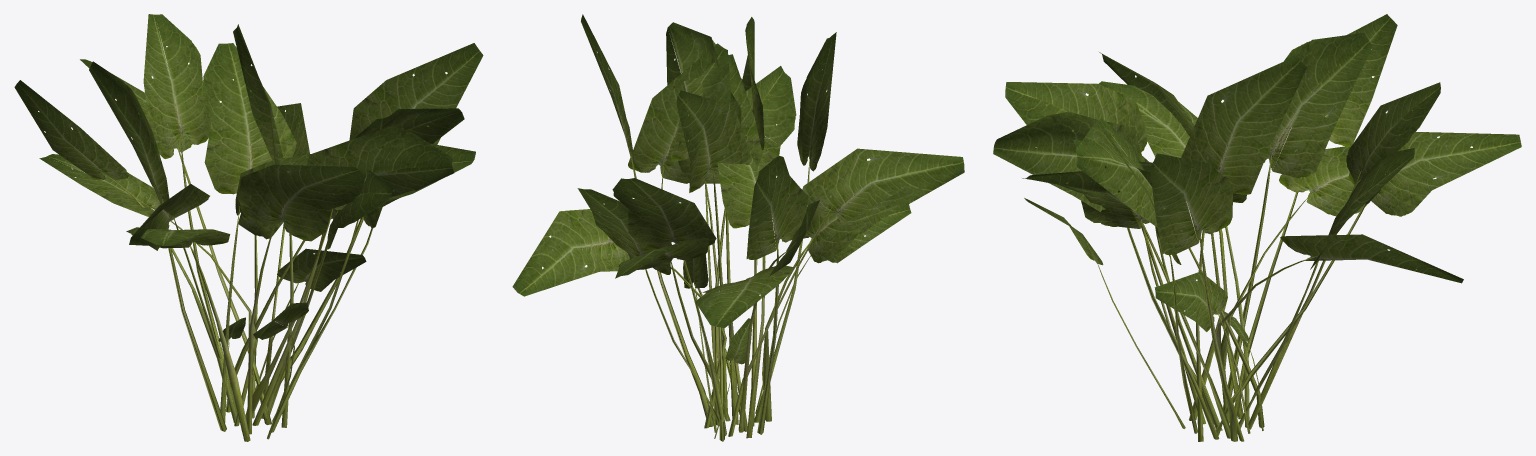
File: Amazon_Sword_Plant_Model_0.obj
3 views of the same model, side by side, from view 1: azimuth 30°, elevation 25°; view 2: azimuth 150°, elevation 25°; view 3: azimuth 270°, elevation 25° (orthographic). The views are drawn at different scales.
Visible parts, largest first — view 1: Foliage; view 2: Foliage; view 3: Foliage.
Part boxes in pixels (x1=…): Foliage: x1=14, y1=14, x2=483, y2=441; Foliage: x1=512, y1=14, x2=964, y2=441; Foliage: x1=993, y1=14, x2=1521, y2=441.
Size of the model in its own units: 1.06 by 1 by 1.24.
Materials: 1 (1 with a texture image).
